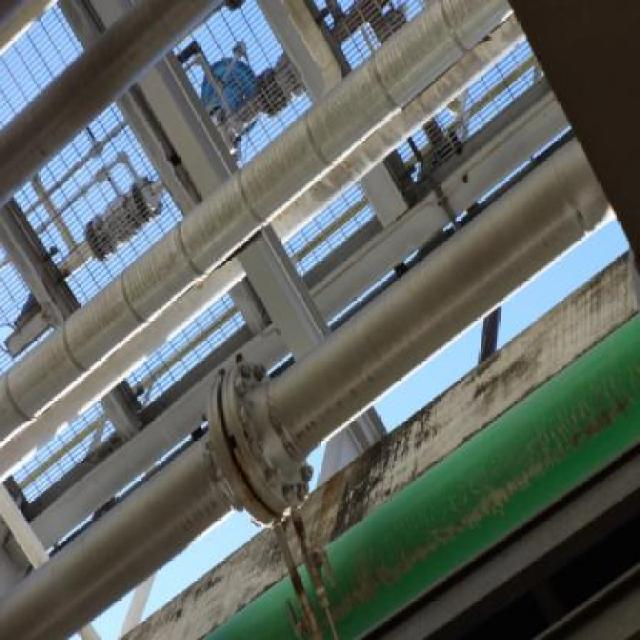gas: (0, 137, 616, 639), (0, 0, 515, 447), (206, 315, 640, 640), (0, 1, 224, 203)
